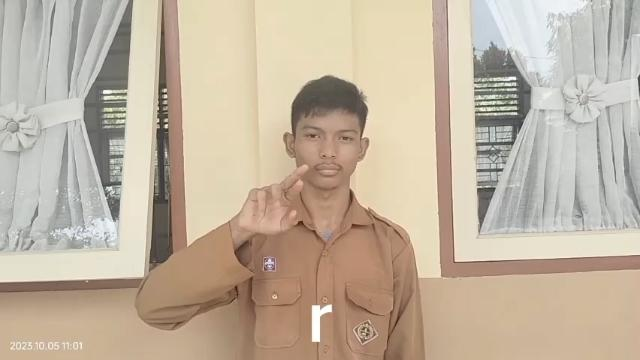R: (237, 165, 311, 237)
